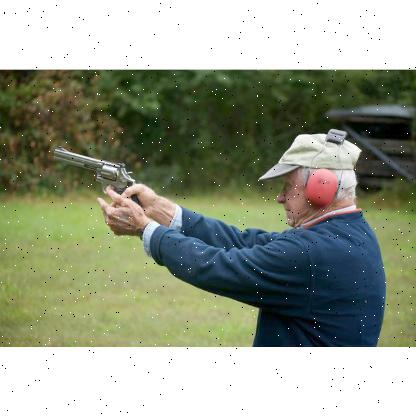gun: (52, 146, 142, 232)
